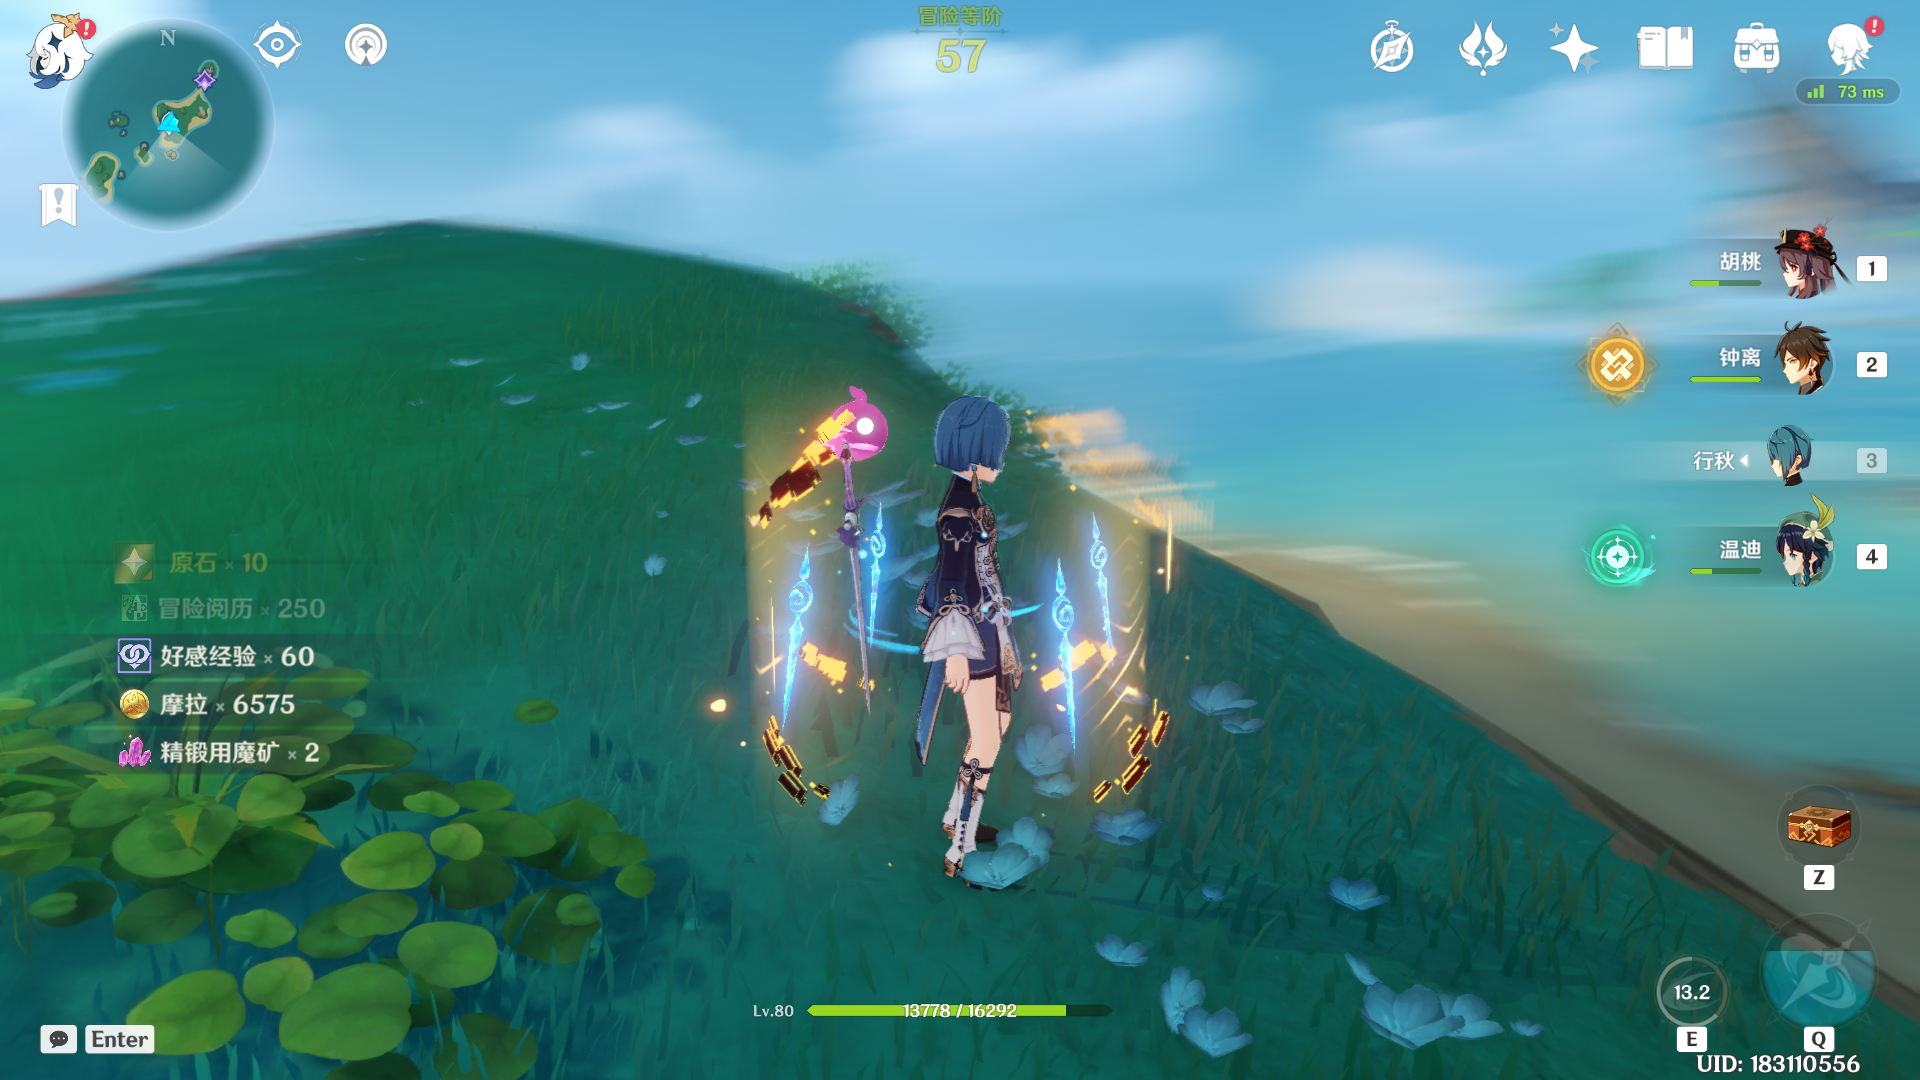character: (786, 371, 1149, 945)
